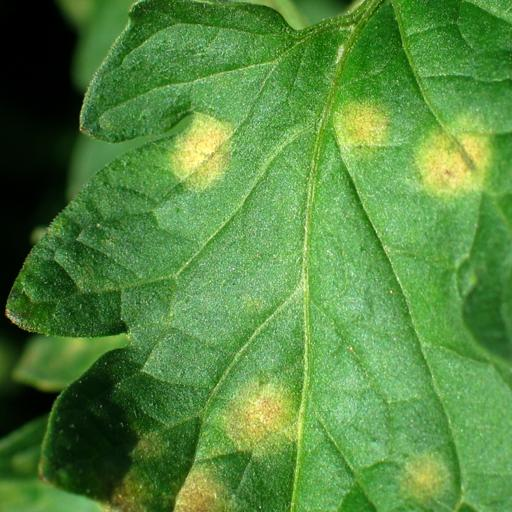Leaf Mold: (79, 31, 512, 512)
